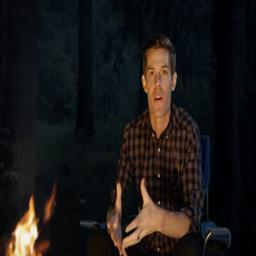fire: (6, 184, 56, 256)
